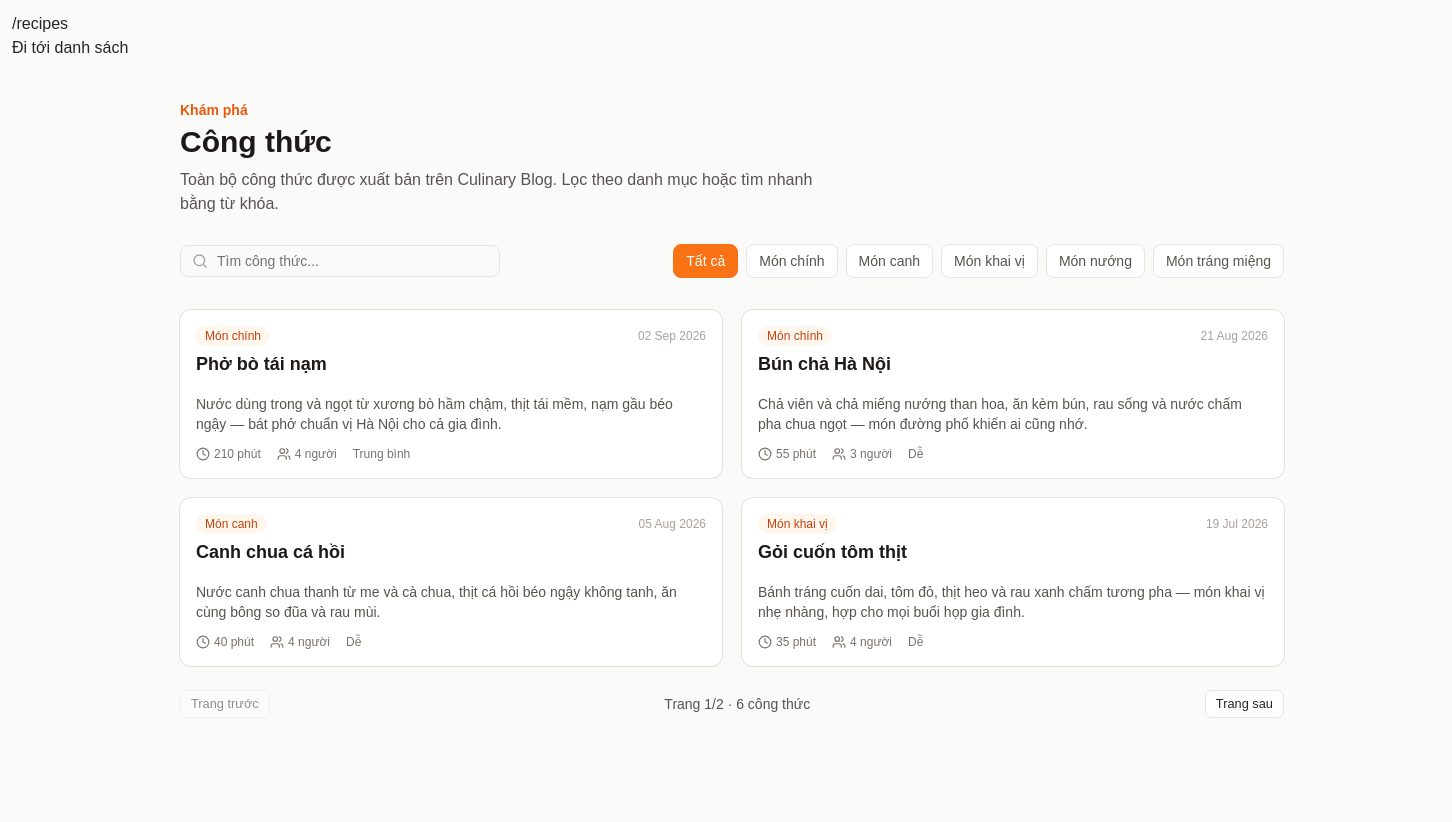
Test case: RecipesBrowsePage › filters by a category chip
Expected: the heading "Phở bò tái nạm" is shown, x1=196 y1=354 x2=327 y2=374
Step 1. Click the button "Món nướng" → point(1095, 261), box x1=1046 y1=244 x2=1145 y2=278
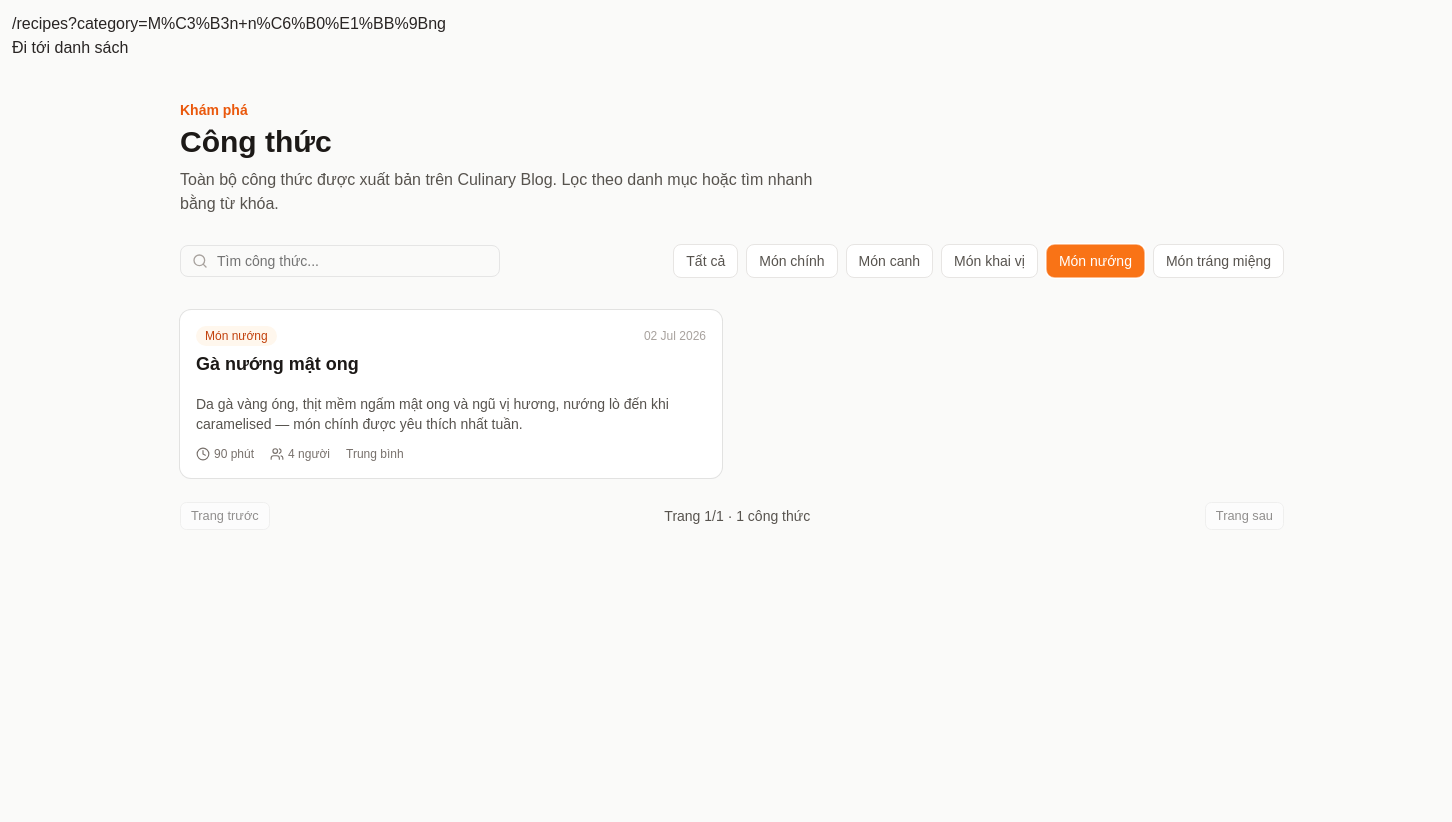
Result: the heading "Gà nướng mật ong" is shown at x1=196 y1=354 x2=359 y2=374
Result: the link "Phở bò tái nạm" is gone
